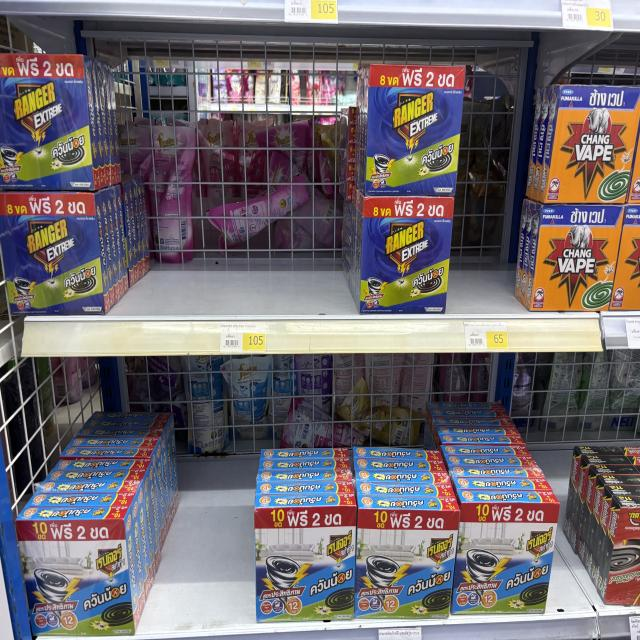empty_shelf: (113, 60, 362, 317), (257, 353, 555, 503), (136, 353, 255, 637), (448, 66, 548, 316), (2, 358, 130, 519)
